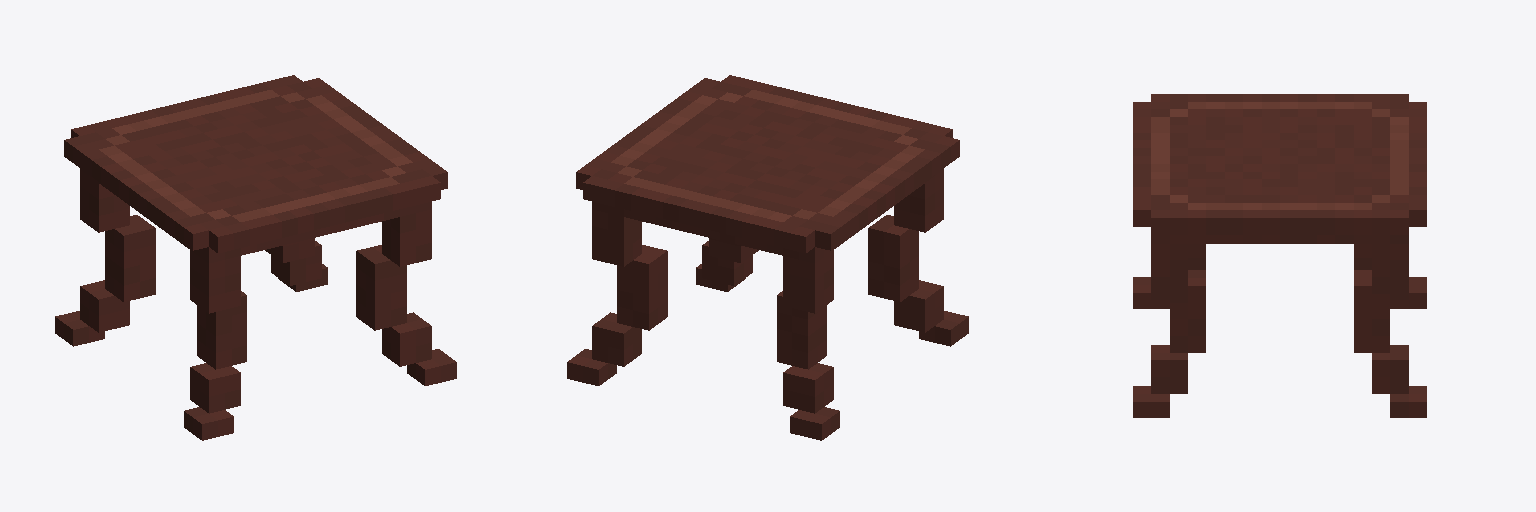
3 views of the same model, side by side, from view 1: azimuth 30°, elevation 25°; view 2: azimuth 150°, elevation 25°; view 3: azimuth 270°, elevation 25° (orthographic).
Visible parts, largest first — view 1: object 1; view 2: object 1; view 3: object 1.
Part boxes in pixels (left/top/right/bottom): object 1: left=55, top=75, right=456, bottom=440; object 1: left=567, top=75, right=968, bottom=440; object 1: left=1133, top=94, right=1426, bottom=417.
Size of the model in its own units: 1.6 by 1.2 by 1.6.
Materials: 1 (1 with a texture image).